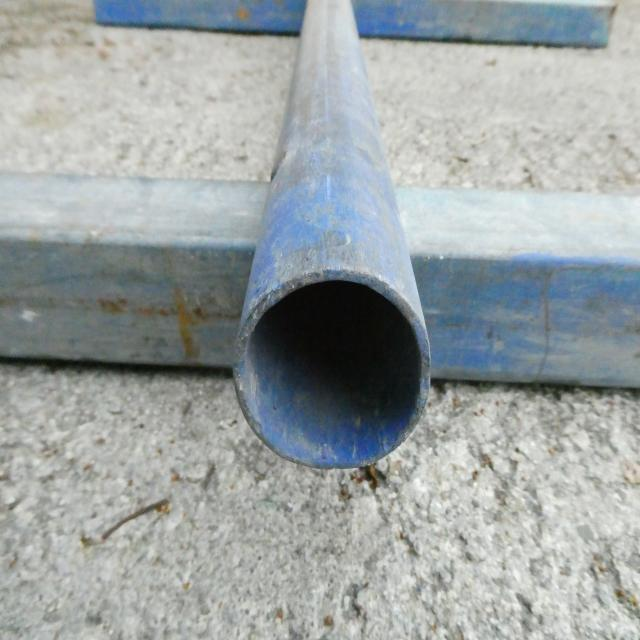pipe: (233, 274, 432, 473)
